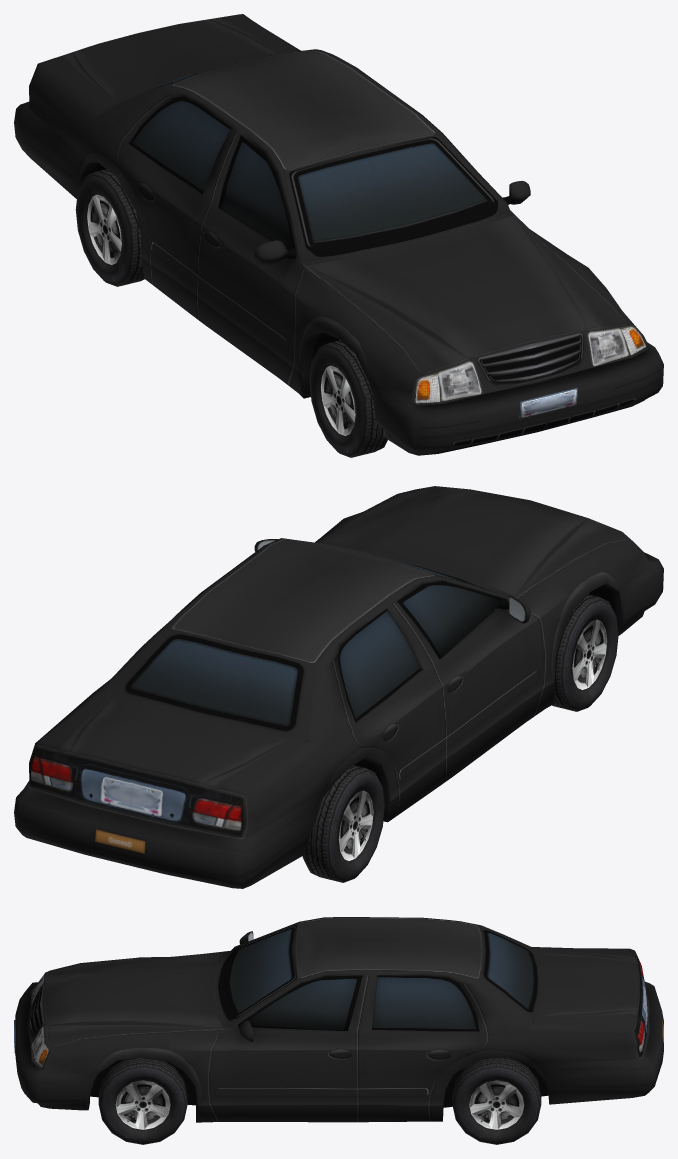
File: BlackCar.fbx
The picture shows the model from 3 angles, top to bottom: view 1: azimuth 30°, elevation 25°; view 2: azimuth 150°, elevation 25°; view 3: azimuth 270°, elevation 25°; orthographic projection. The views are drawn at different scales.
Visible parts, largest first — view 1: BlackCar_body, BlackCar_FR_wheel, BlackCar_BR_wheel, BlackCar_FR_headLghr, BlackCar_FL_headLight; view 2: BlackCar_body, BlackCar_BR_wheel, BlackCar_FR_wheel, BlackCar_BR_light, BlackCar_BL_light; view 3: BlackCar_body, BlackCar_BL_wheel, BlackCar_FL_wheel, BlackCar_FL_headLight.
Boxes of the visible parts, x1,y1,x2,y2 form: BlackCar_body: (14,14,663,455); BlackCar_FR_wheel: (309,340,387,457); BlackCar_BR_wheel: (75,169,144,286); BlackCar_FR_headLghr: (411,360,480,404); BlackCar_FL_headLight: (588,325,648,366); BlackCar_body: (14,486,663,888); BlackCar_BR_wheel: (302,765,384,882); BlackCar_FR_wheel: (552,594,618,711); BlackCar_BR_light: (192,798,241,830); BlackCar_BL_light: (31,755,73,791); BlackCar_body: (14,917,663,1122); BlackCar_BL_wheel: (452,1058,541,1144); BlackCar_FL_wheel: (98,1058,187,1144); BlackCar_FL_headLight: (32,1026,49,1069).
Size of the model in its own units: 205 by 149 by 554.
Materials: 1 (1 with a texture image).
